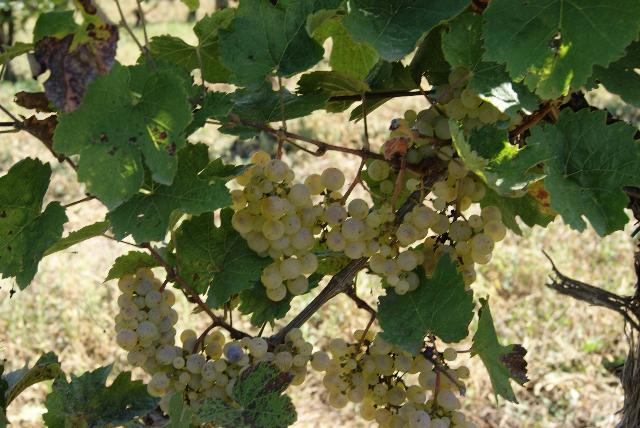grapes: (231, 151, 344, 301), (115, 269, 179, 396), (324, 331, 412, 409), (422, 206, 506, 286), (149, 342, 230, 401), (324, 199, 386, 260), (388, 385, 465, 428), (369, 249, 425, 295), (396, 222, 428, 248), (416, 206, 438, 225), (155, 345, 170, 369), (376, 410, 396, 426), (414, 355, 432, 370), (230, 348, 244, 362)
